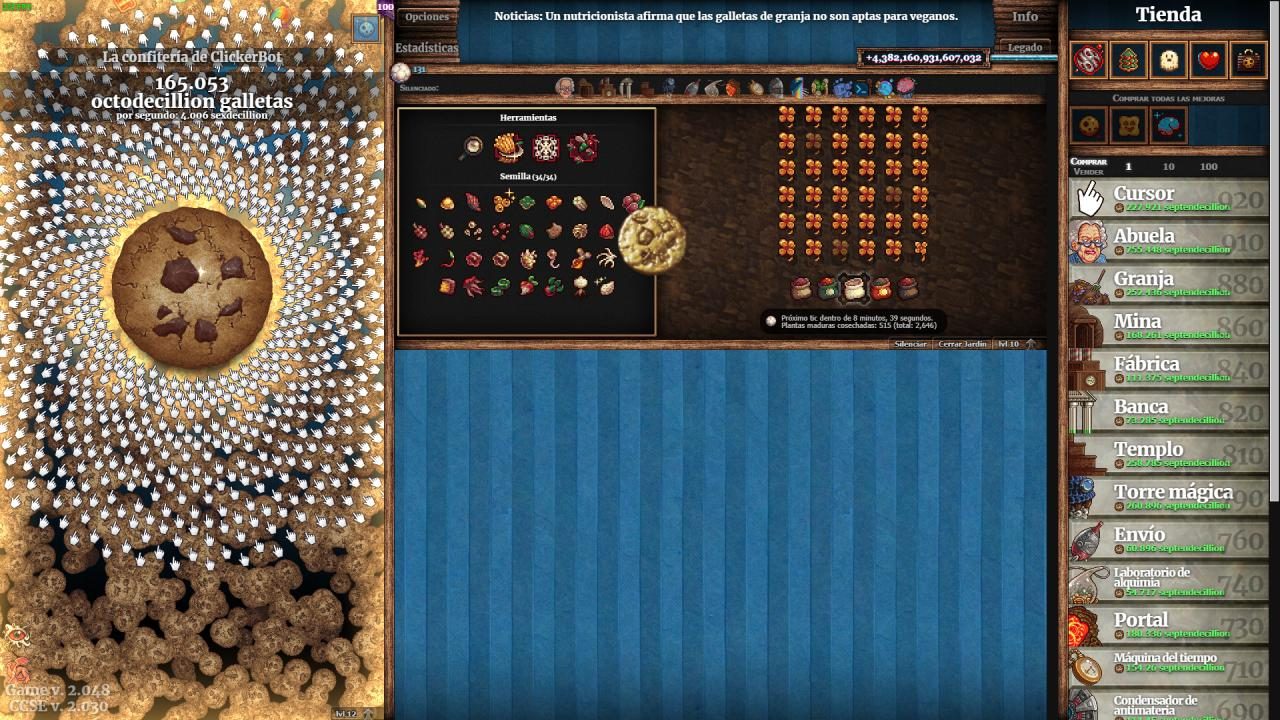GoldenCookie: (617, 204, 689, 276)
